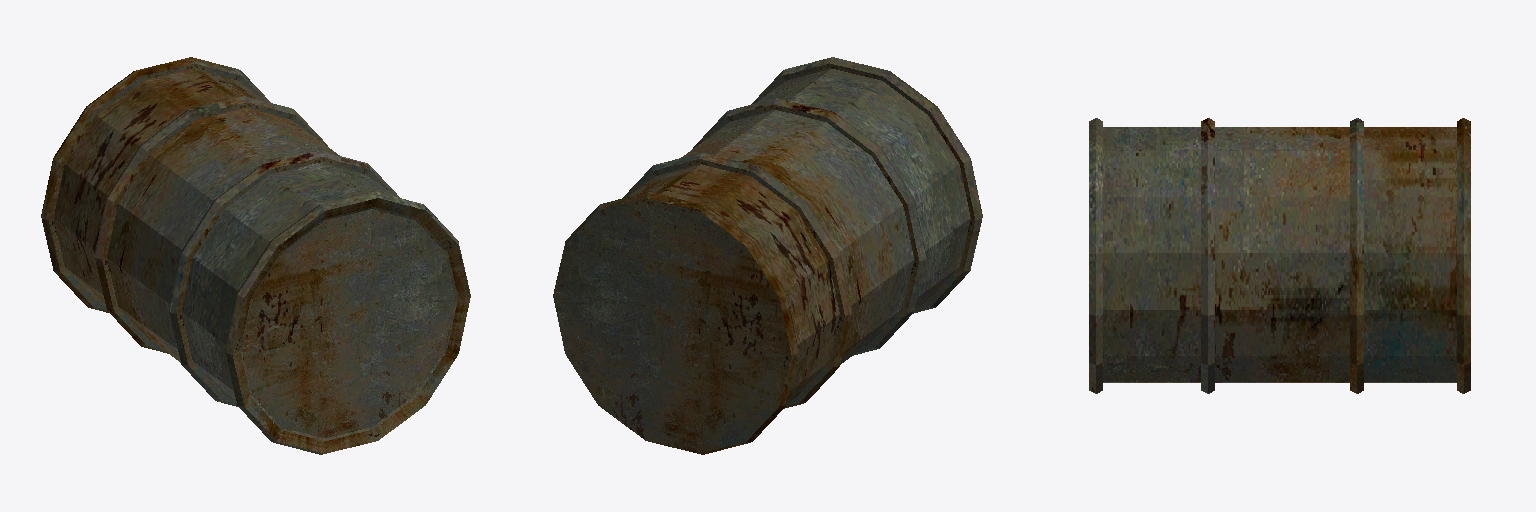
The picture shows the model from 3 angles: view 1: azimuth 30°, elevation 25°; view 2: azimuth 150°, elevation 25°; view 3: azimuth 270°, elevation 25°; orthographic projection.
Parts seen in each view (by area): view 1: Cylinder01; view 2: Cylinder01; view 3: Cylinder01.
Boxes of the visible parts, <box> form: Cylinder01: <box>41,57,470,454</box>; Cylinder01: <box>553,57,982,454</box>; Cylinder01: <box>1089,118,1470,393</box>.
Size of the model in its own units: 0.6768 by 0.6598 by 0.9146.
Materials: 1 (1 with a texture image).